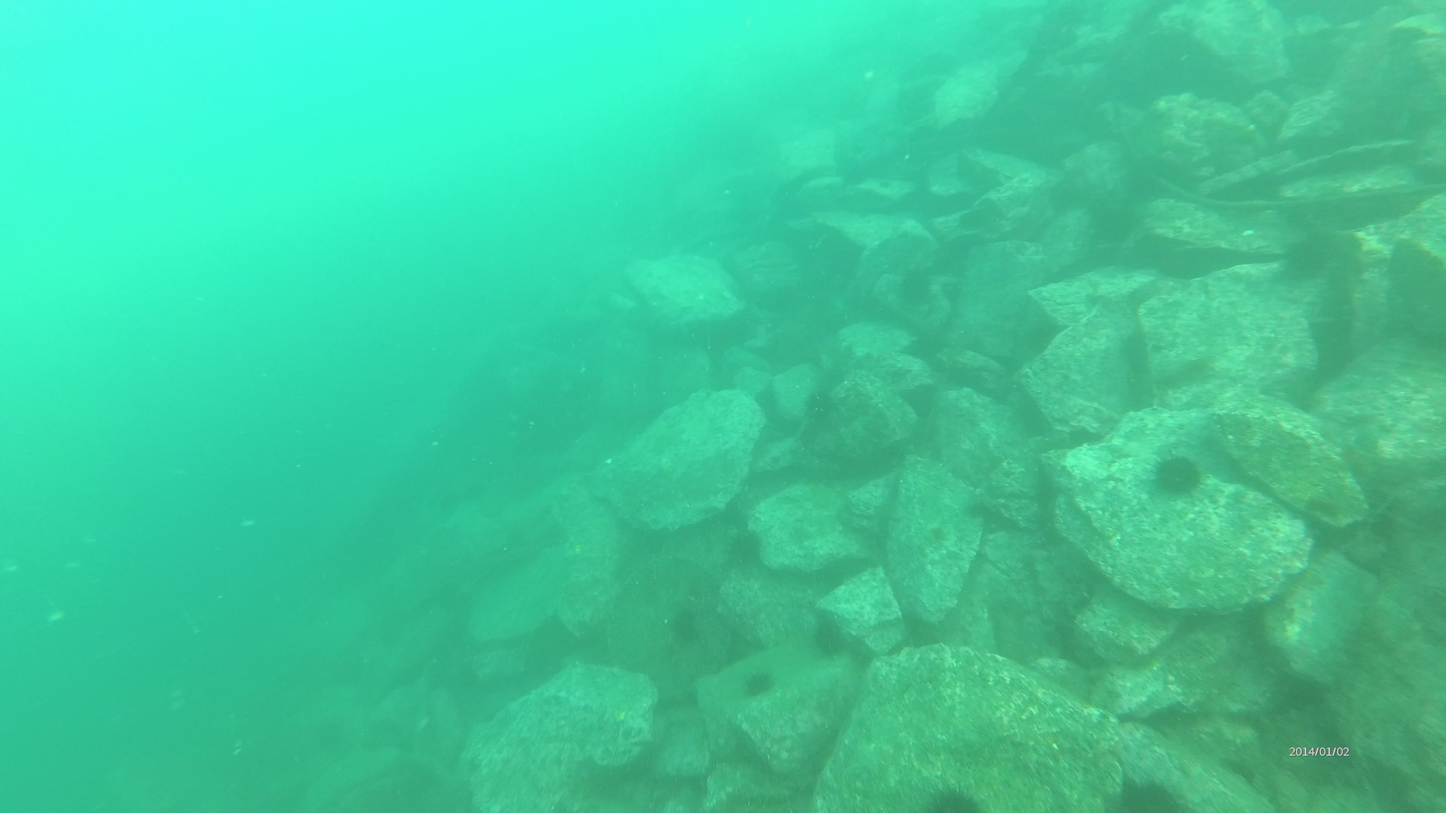starfish: (1110, 771, 1186, 813), (1153, 452, 1212, 499), (715, 522, 760, 576), (1283, 232, 1322, 294), (918, 779, 982, 813), (897, 268, 936, 316), (808, 620, 848, 656), (665, 607, 698, 650), (805, 388, 832, 428), (743, 666, 772, 700)
